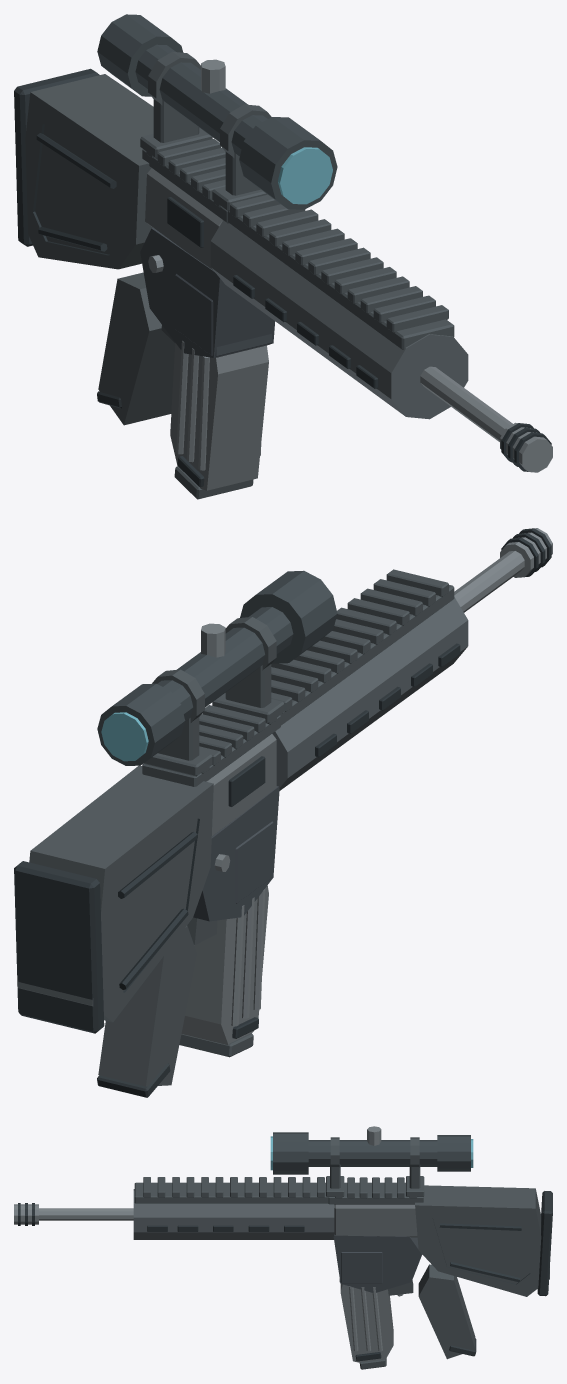
3 views of the same model, one above another, from view 1: azimuth 30°, elevation 25°; view 2: azimuth 150°, elevation 25°; view 3: azimuth 270°, elevation 25° (orthographic). The views are drawn at different scales.
Parts seen in each view (by area): view 1: StaticVisual; view 2: StaticVisual; view 3: StaticVisual.
Boxes of the visible parts, x1=… form: StaticVisual: x1=14, y1=14, x2=552, y2=499; StaticVisual: x1=14, y1=528, x2=552, y2=1097; StaticVisual: x1=14, y1=1126, x2=552, y2=1369.
Bounding box in the file's own units: 0.1581 × 0.7246 × 1.52.
